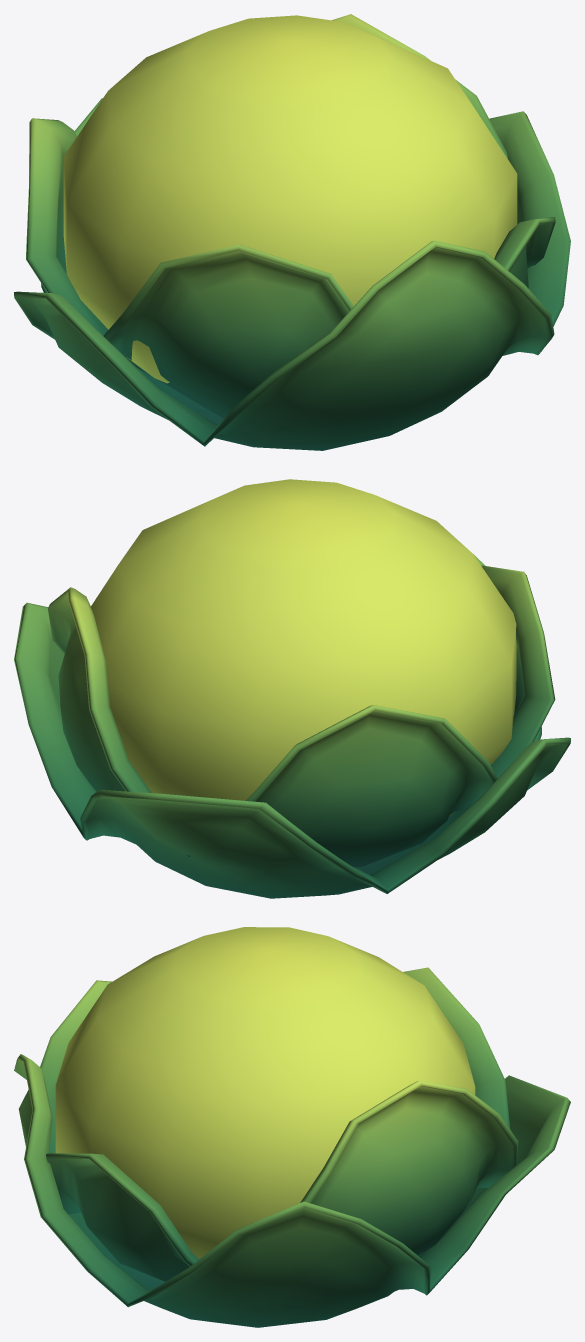
File: Cabbage.fbx
The picture shows the model from 3 angles, top to bottom: view 1: azimuth 30°, elevation 25°; view 2: azimuth 150°, elevation 25°; view 3: azimuth 270°, elevation 25°; orthographic projection. The views are drawn at different scales.
Parts seen in each view (by area): view 1: Cabbage; view 2: Cabbage; view 3: Cabbage.
Part boxes in pixels (left/top/right/bottom): Cabbage: left=14, top=14, right=570, bottom=450; Cabbage: left=14, top=479, right=570, bottom=898; Cabbage: left=14, top=927, right=570, bottom=1327.
Size of the model in its own units: 0.3921 by 0.2792 by 0.4028.
